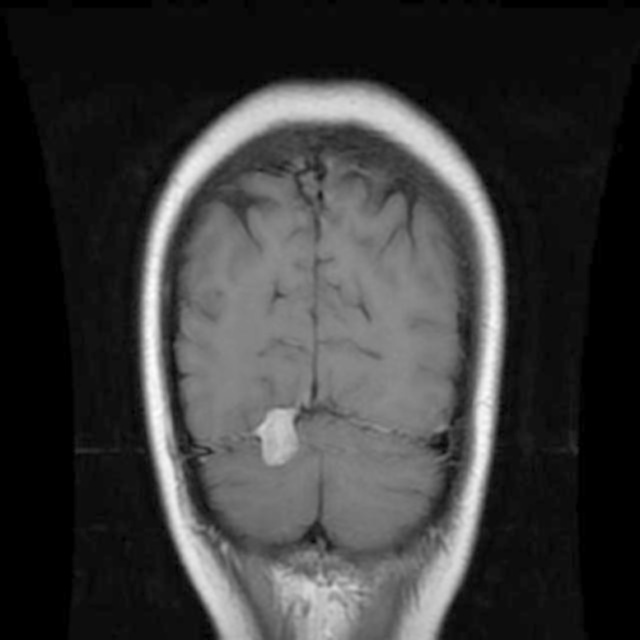meningioma tumor: (242, 392, 317, 479)
